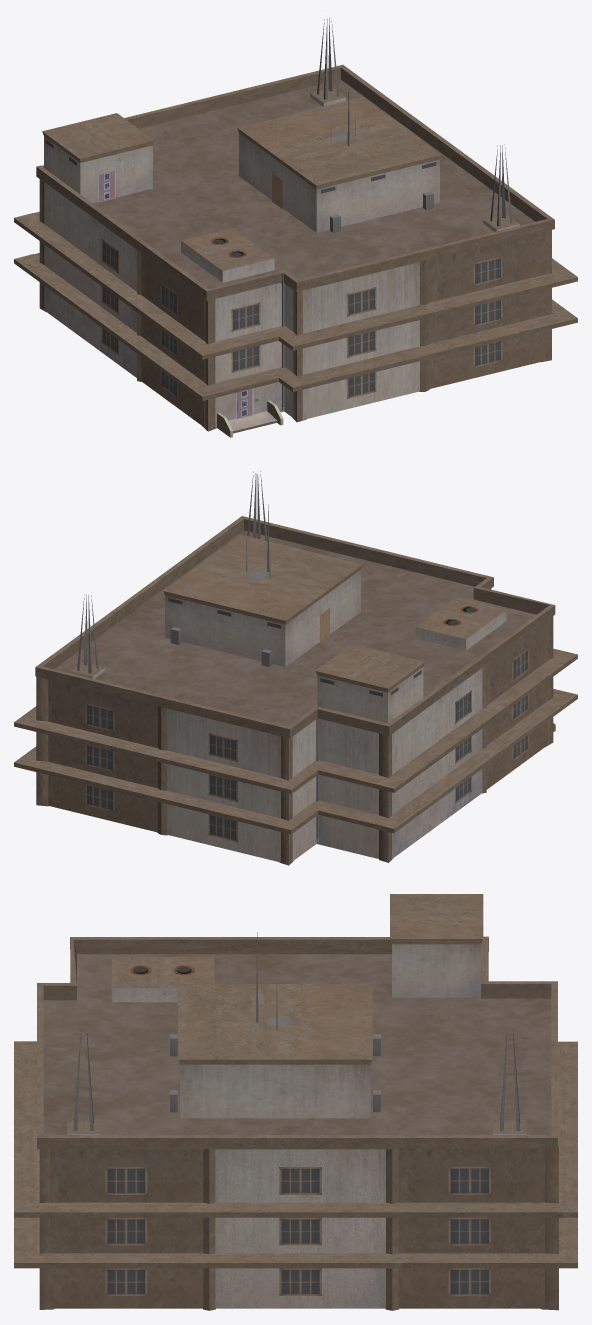
File: ORB_5_Single_Detail_2.fbx
3 renders of one model, top to bottom at view 1: azimuth 30°, elevation 25°; view 2: azimuth 150°, elevation 25°; view 3: azimuth 270°, elevation 25°, orthographic. The views are drawn at different scales.
Parts seen in each view (by area): view 1: ORB_5_Single_Detail_2; view 2: ORB_5_Single_Detail_2; view 3: ORB_5_Single_Detail_2.
Boxes of the visible parts, bbox=[...] form: ORB_5_Single_Detail_2: bbox=[14, 17, 577, 437]; ORB_5_Single_Detail_2: bbox=[14, 471, 577, 865]; ORB_5_Single_Detail_2: bbox=[14, 894, 577, 1310].
Size of the model in its own units: 2441 by 1633 by 2676.
